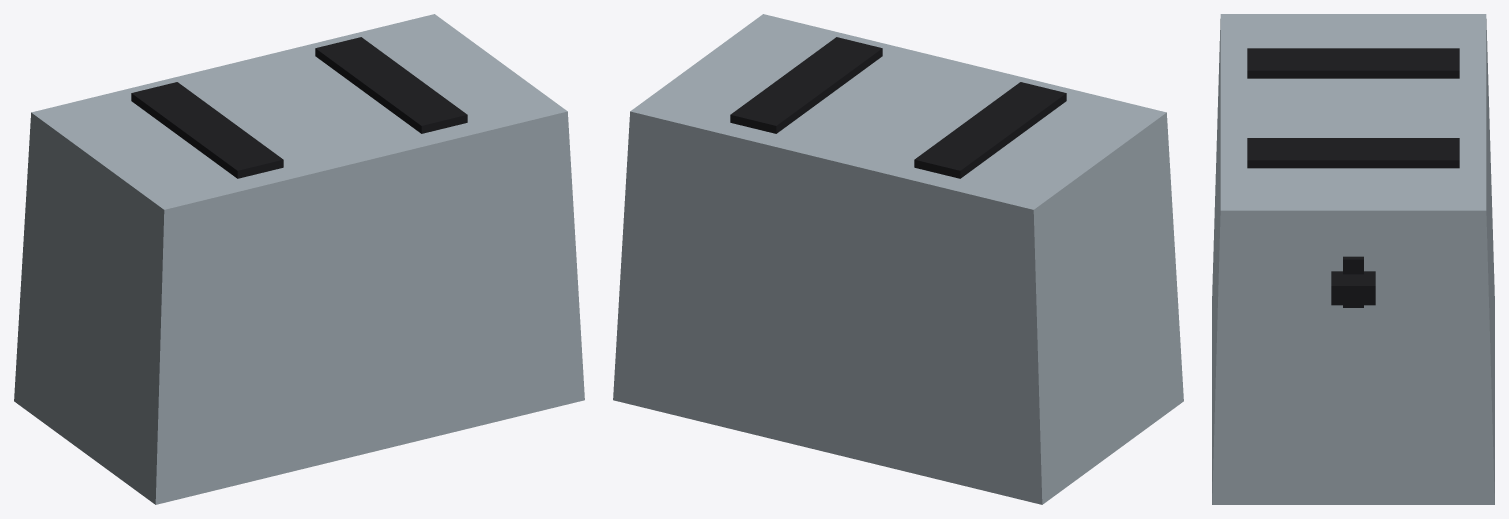
The model's file is GI_Toaster_01.glb.
3 renders of one model, left to right at view 1: azimuth 30°, elevation 25°; view 2: azimuth 150°, elevation 25°; view 3: azimuth 270°, elevation 25°, orthographic.
Parts seen in each view (by area): view 1: GI_Toaster_01; view 2: GI_Toaster_01; view 3: GI_Toaster_01, Lever.
Part boxes in pixels (x1,y1,x2,y2): GI_Toaster_01: [14, 14, 584, 504]; GI_Toaster_01: [613, 14, 1183, 504]; GI_Toaster_01: [1212, 14, 1494, 504]; Lever: [1331, 256, 1375, 307].
Size of the model in its own units: 0.3 by 0.185 by 0.16.
1 material, 1 textured.
